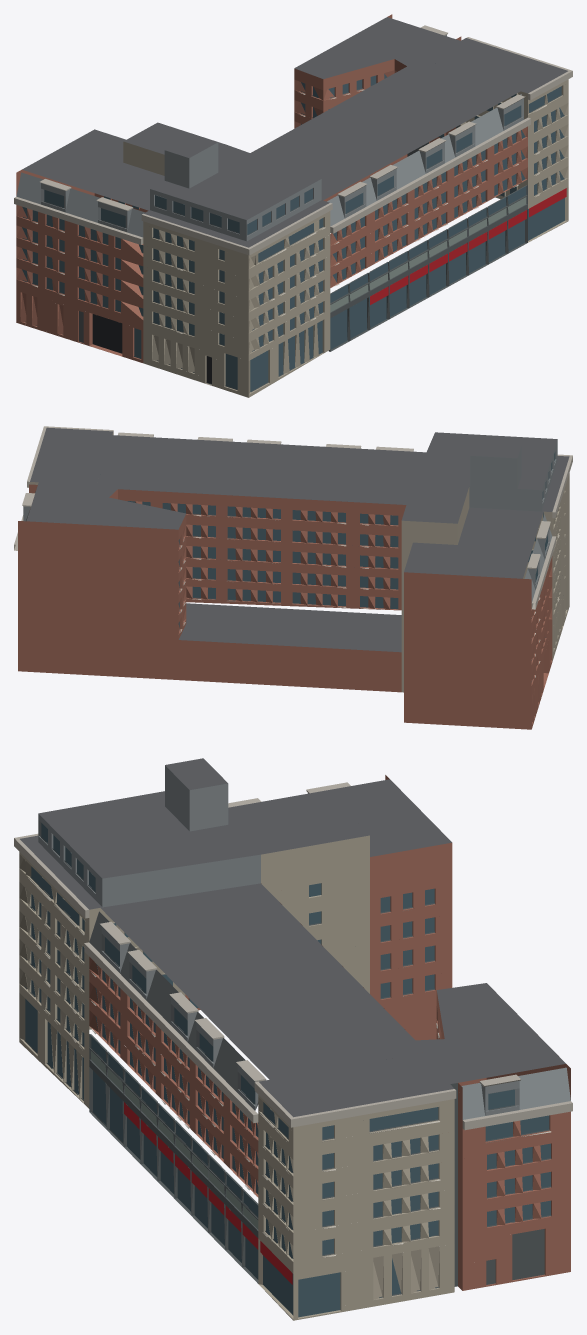
Rendered from kinkerstraat-32.lod1.glb.
The picture shows the model from 3 angles, top to bottom: view 1: azimuth 30°, elevation 25°; view 2: azimuth 150°, elevation 25°; view 3: azimuth 270°, elevation 25°; orthographic projection. The views are drawn at different scales.
Visible parts, largest first — view 1: kinkerstraat-32; view 2: kinkerstraat-32; view 3: kinkerstraat-32.
Boxes of the visible parts, x1,y1,x2,y2 form: kinkerstraat-32: [14, 14, 572, 397]; kinkerstraat-32: [14, 426, 572, 729]; kinkerstraat-32: [14, 758, 572, 1320].
Bounding box in the file's own units: 68.58 × 25.2 × 46.68.
